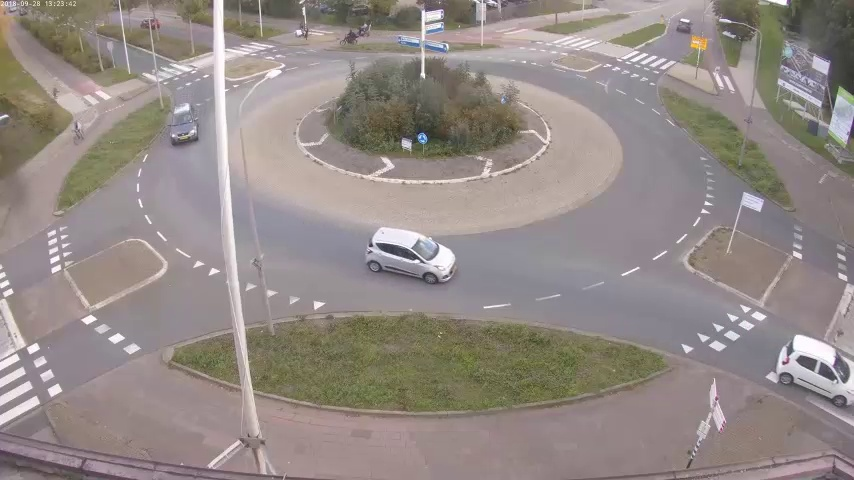bicycle: (335, 31, 359, 47), (74, 117, 81, 139)
car: (367, 226, 459, 294), (775, 331, 848, 412), (166, 102, 200, 145), (135, 18, 168, 30), (676, 14, 691, 36)
